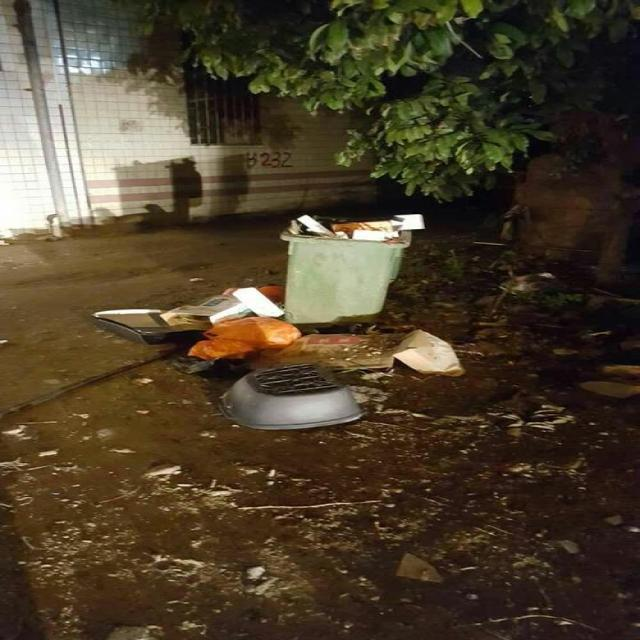garbage: (90, 286, 460, 430)
overflow: (282, 215, 425, 323)
